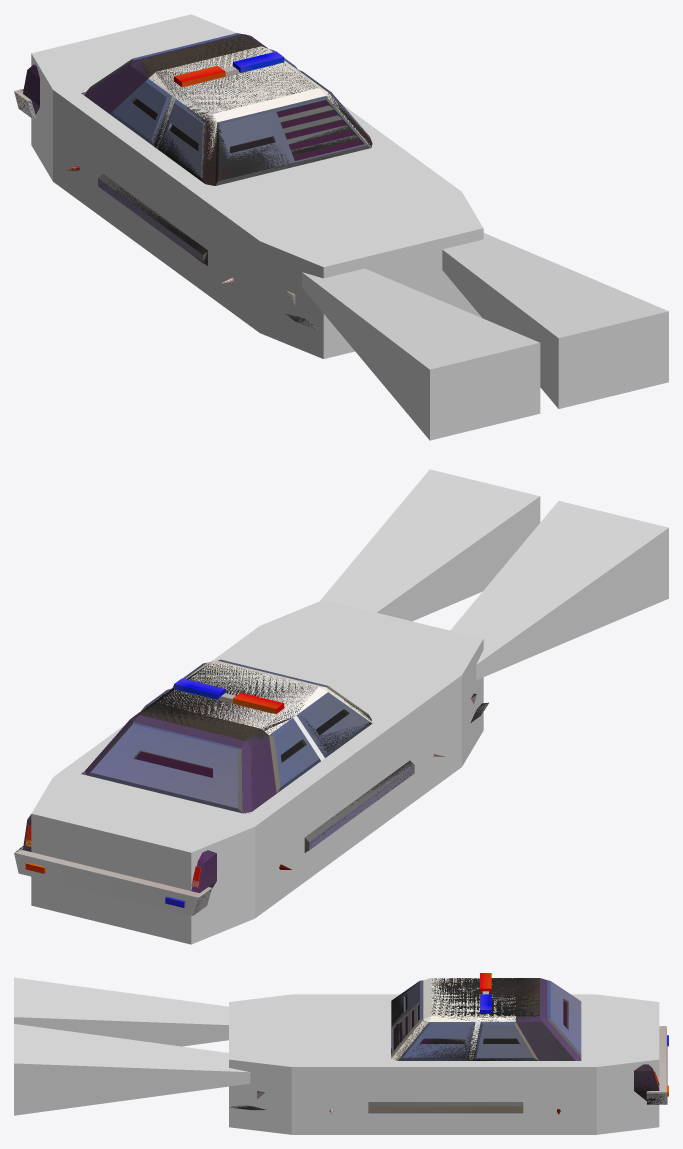
File: Blade.fbx
3 views of the same model, one above another, from view 1: azimuth 30°, elevation 25°; view 2: azimuth 150°, elevation 25°; view 3: azimuth 270°, elevation 25° (orthographic). The views are drawn at different scales.
Parts seen in each view (by area): view 1: blade_cldr, blade_gr, blade, blade_dead, sirens1; view 2: blade_cldr, blade_gr, blade, blade_dead, sirens1; view 3: blade_cldr, blade_gr, blade, blade_dead, sirens1.
Boxes of the visible parts, x1,y1,x2,y2 form: blade_cldr: [31, 14, 483, 358]; blade_gr: [302, 233, 668, 440]; blade: [14, 33, 371, 330]; blade_dead: [15, 34, 372, 327]; sirens1: [174, 51, 284, 87]; blade_cldr: [31, 600, 483, 944]; blade_gr: [320, 469, 668, 679]; blade: [14, 659, 488, 915]; blade_dead: [16, 662, 487, 914]; sirens1: [25, 678, 284, 907]; blade_cldr: [229, 994, 659, 1134]; blade_gr: [14, 977, 250, 1115]; blade: [229, 978, 667, 1113]; blade_dead: [231, 978, 665, 1113]; sirens1: [480, 973, 668, 1096].
Bounding box in the file's own units: 4.54 × 2.63 × 14.61.
